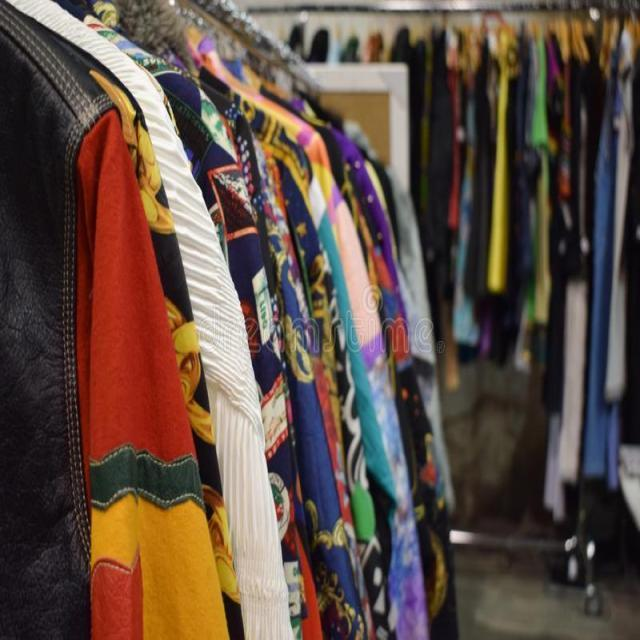clothes: (36, 55, 411, 640)
